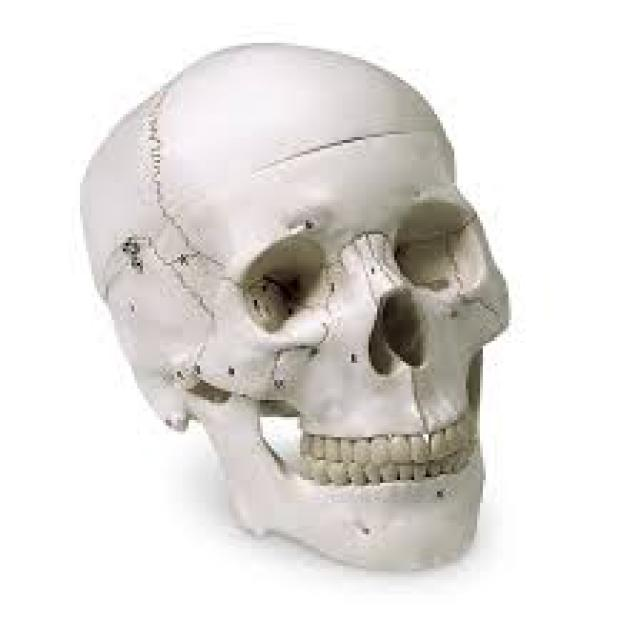skull: (74, 28, 524, 590)
